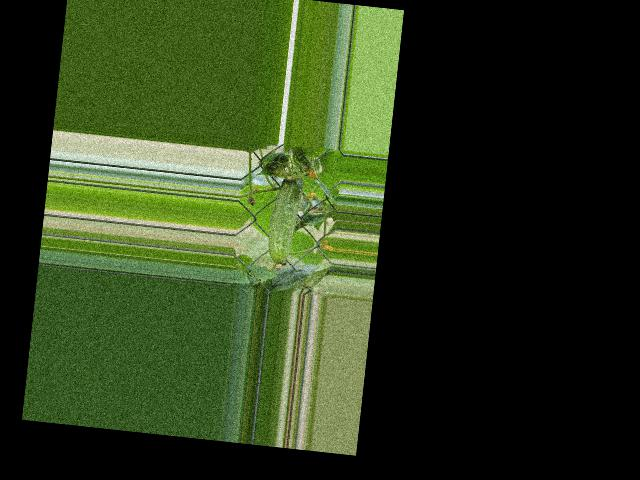cucumber: (265, 170, 303, 270)
